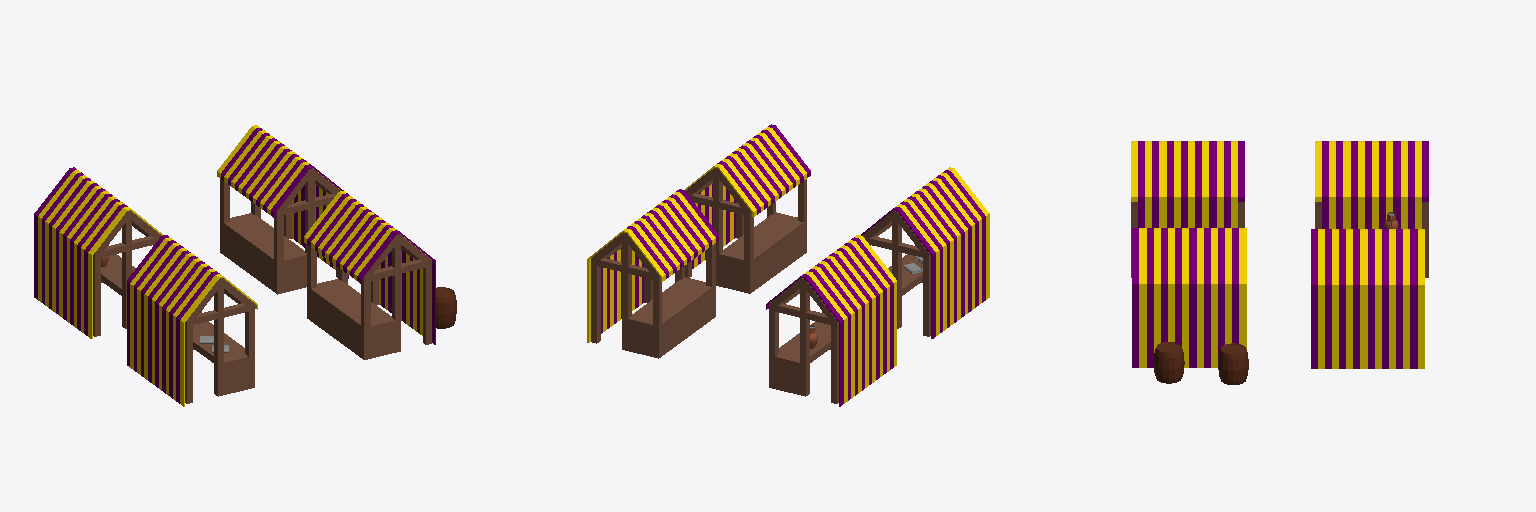
Rendered from market_purple_yellow.obj.
3 views of the same model, side by side, from view 1: azimuth 30°, elevation 25°; view 2: azimuth 150°, elevation 25°; view 3: azimuth 270°, elevation 25° (orthographic).
Parts seen in each view (by area): view 1: Cube.060_Cube.235, Cube.156_Cube.225, Cube.052_Cube.004, Cube.056_Cube.178, Cube.147_Cube.153, Cube.001_Cube.064, Barrel1.001; view 2: Cube.156_Cube.225, Cube.060_Cube.235, Cube.056_Cube.178, Cube.052_Cube.004, Cube.001_Cube.064, Cube.147_Cube.153, Cube.025_Cube.001, Cube.057_Cube.179; view 3: Cube.156_Cube.225, Cube.060_Cube.235, Cube.001_Cube.064, Cube.147_Cube.153, Barrel1.001, Barrel1.
Boxes of the visible parts, box(x1,y1,x2,y2) form: Cube.060_Cube.235: box(127, 235, 257, 406); Cube.156_Cube.225: box(34, 167, 162, 338); Cube.052_Cube.004: box(309, 234, 431, 359); Cube.056_Cube.178: box(222, 168, 340, 294); Cube.147_Cube.153: box(379, 250, 435, 344); Cube.001_Cube.064: box(292, 184, 348, 278); Barrel1.001: box(436, 287, 456, 328); Cube.156_Cube.225: box(766, 235, 896, 406); Cube.060_Cube.235: box(861, 167, 989, 338); Cube.056_Cube.178: box(591, 232, 715, 356); Cube.052_Cube.004: box(685, 168, 806, 292); Cube.001_Cube.064: box(587, 248, 643, 342); Cube.147_Cube.153: box(692, 184, 735, 268); Cube.025_Cube.001: box(744, 210, 753, 293); Cube.057_Cube.179: box(653, 275, 661, 358); Cube.156_Cube.225: box(1315, 141, 1428, 277); Cube.060_Cube.235: box(1131, 141, 1244, 277); Cube.001_Cube.064: box(1311, 285, 1424, 368); Cube.147_Cube.153: box(1132, 284, 1246, 367); Barrel1.001: box(1153, 342, 1184, 383); Barrel1: box(1218, 343, 1248, 384).
Bounding box in the file's own units: 9.51 × 3.73 × 8.36.